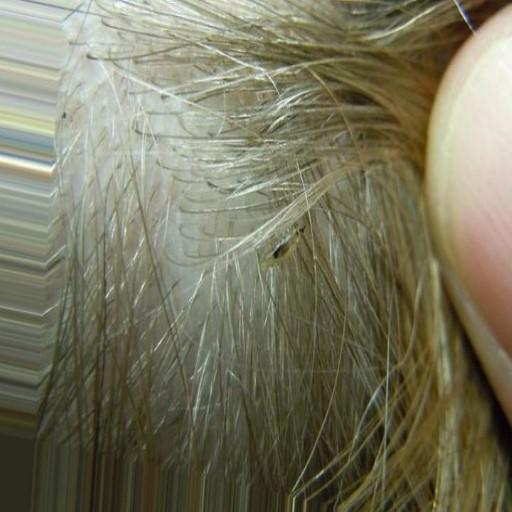Head_Lice: (256, 218, 319, 264)
